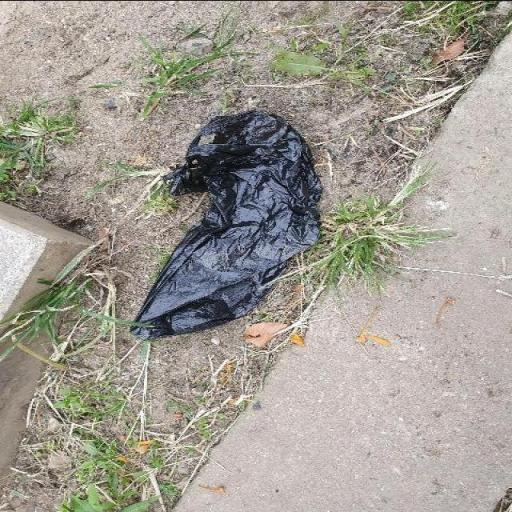plastic-bag: (129, 108, 326, 338)
